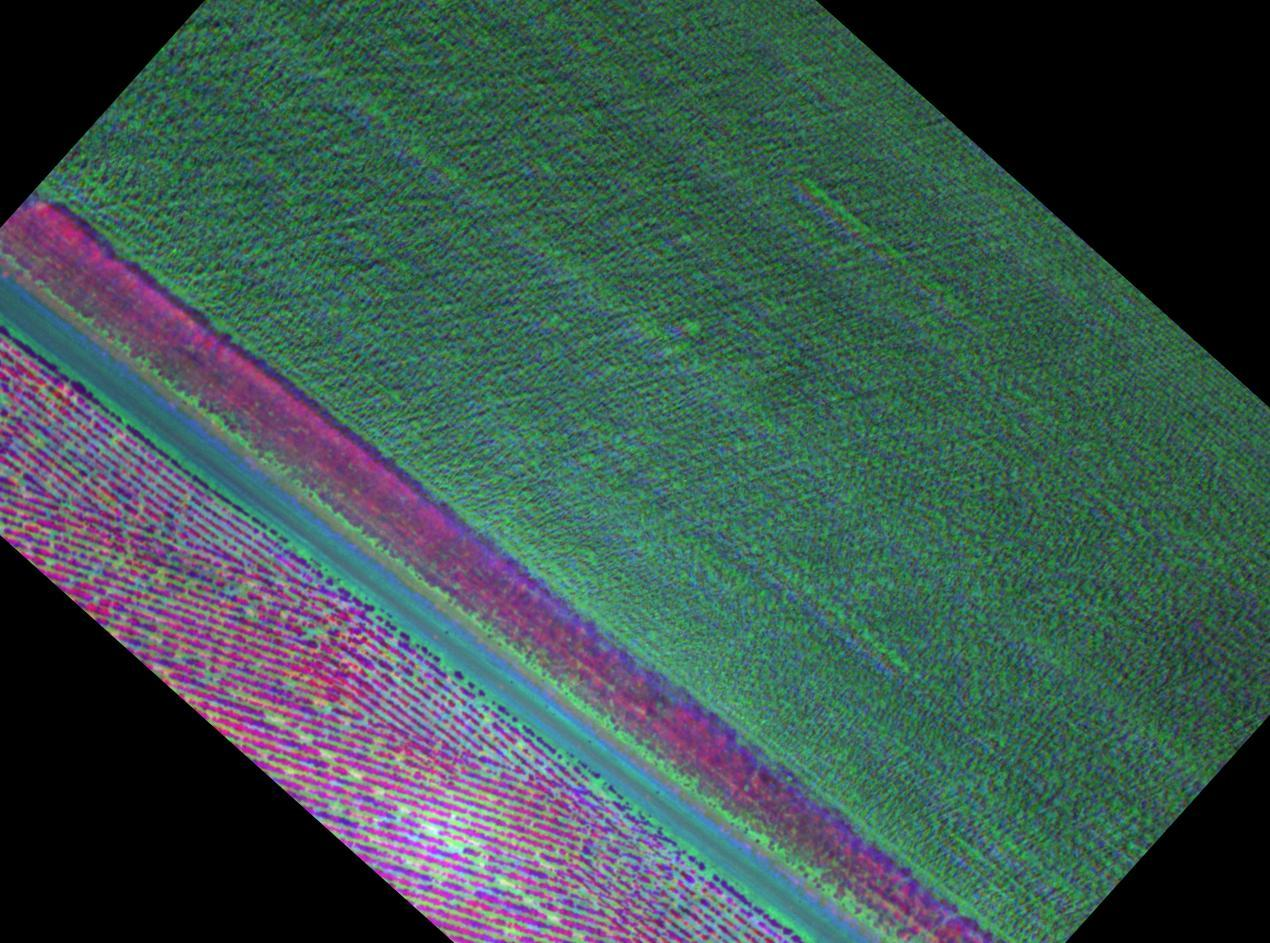dc: (451, 843, 458, 849), (549, 915, 555, 922), (353, 773, 359, 779), (237, 585, 243, 590), (594, 784, 600, 789), (177, 651, 182, 656), (431, 826, 436, 830), (309, 734, 313, 737)
